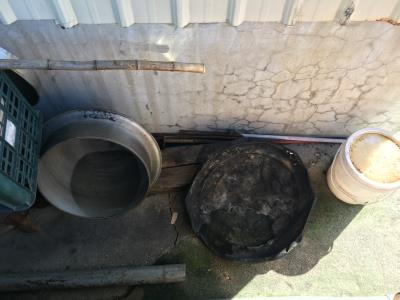bowl: (179, 136, 317, 267), (34, 103, 163, 225)
bucket: (323, 125, 399, 209)
